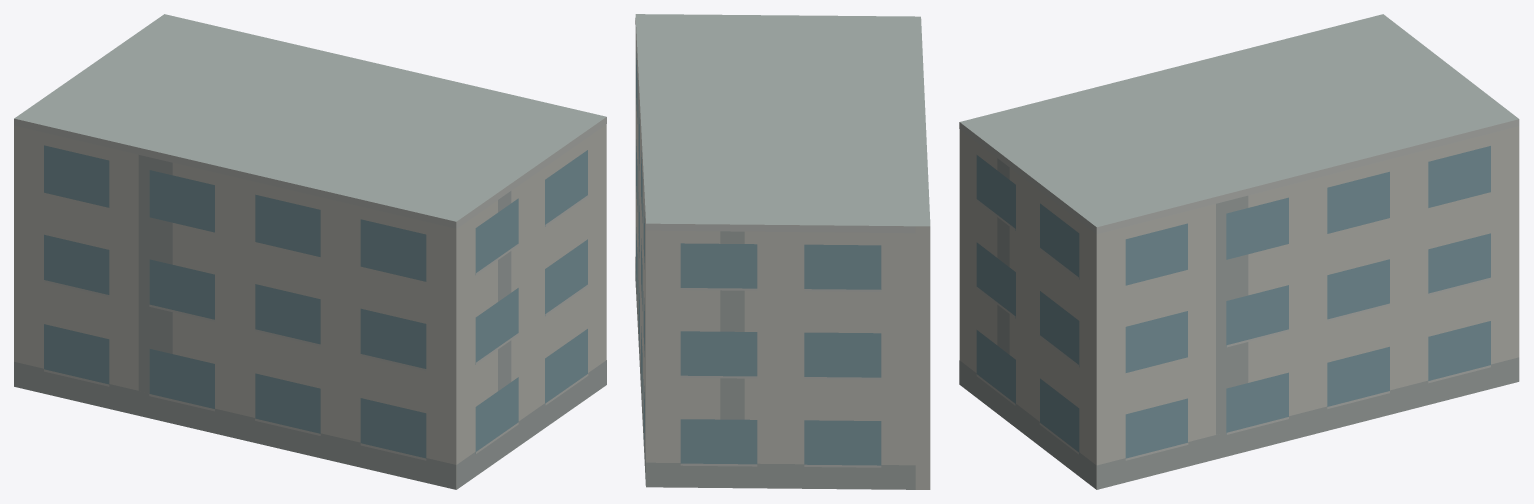
Rendered from survey-upis-32775084.glb.
3 renders of one model, left to right at view 1: azimuth 30°, elevation 25°; view 2: azimuth 150°, elevation 25°; view 3: azimuth 270°, elevation 25°, orthographic. The views are drawn at different scales.
Parts seen in each view (by area): view 1: survey-upis-32775084.tmp; view 2: survey-upis-32775084.tmp; view 3: survey-upis-32775084.tmp.
Boxes of the visible parts, bbox=[...] form: survey-upis-32775084.tmp: bbox=[14, 14, 606, 489]; survey-upis-32775084.tmp: bbox=[635, 14, 930, 489]; survey-upis-32775084.tmp: bbox=[959, 14, 1519, 489].
Size of the model in its own units: 15.95 by 9.15 by 17.69.
